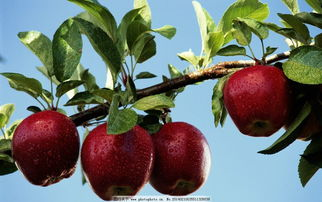apple: (11, 110, 80, 188)
obscured(0)_apple: (81, 121, 154, 202), (222, 64, 291, 138)
obscured(1)_apple: (148, 121, 212, 197)
